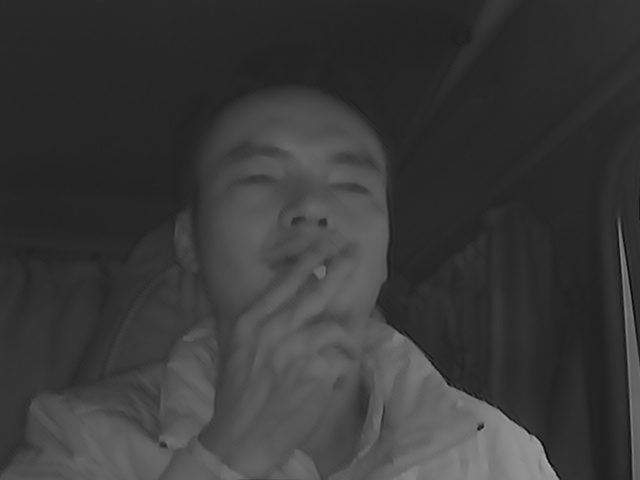hand: (236, 242, 370, 399)
